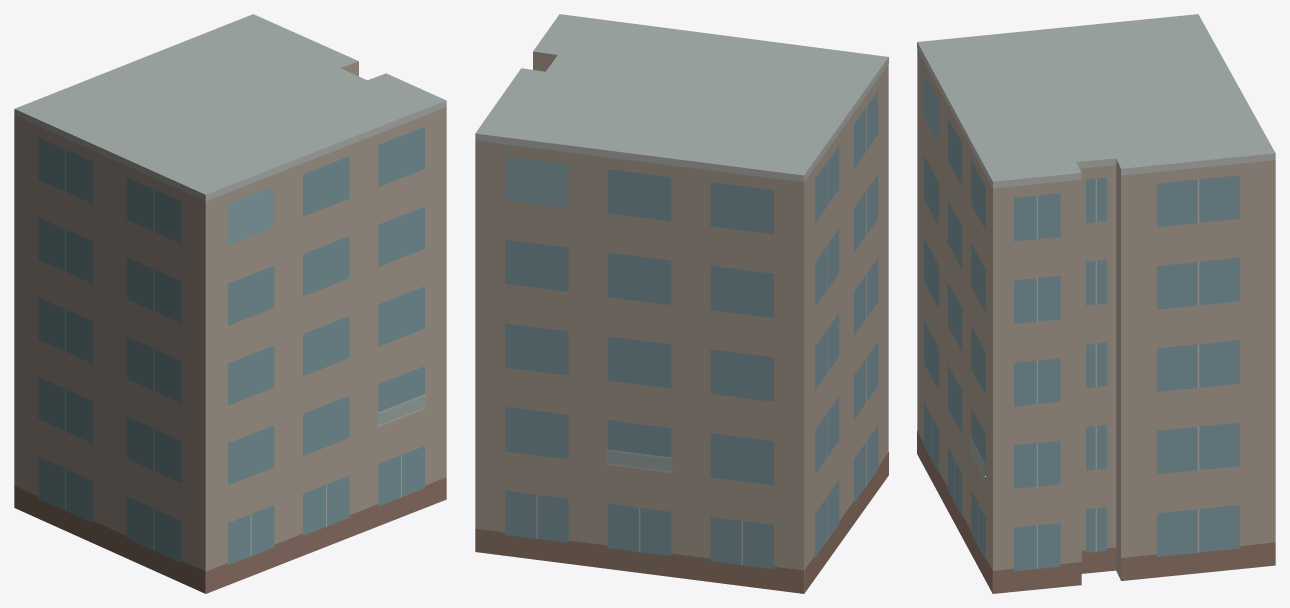
Rendered from survey-upis-33042204.glb.
3 views of the same model, side by side, from view 1: azimuth 30°, elevation 25°; view 2: azimuth 150°, elevation 25°; view 3: azimuth 270°, elevation 25° (orthographic). The views are drawn at different scales.
Parts seen in each view (by area): view 1: survey-upis-33042204.tmp; view 2: survey-upis-33042204.tmp; view 3: survey-upis-33042204.tmp.
Boxes of the visible parts, x1,y1,x2,y2 form: survey-upis-33042204.tmp: (14, 14, 446, 593); survey-upis-33042204.tmp: (475, 14, 888, 593); survey-upis-33042204.tmp: (917, 14, 1275, 593).
Bounding box in the file's own units: 12.95 × 14.83 × 11.7.
